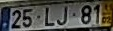1: (92, 3, 100, 25)
2: (10, 8, 22, 29)
5: (21, 8, 33, 28)
8: (79, 3, 92, 25)
J: (55, 5, 68, 26)
L: (43, 6, 55, 27)
